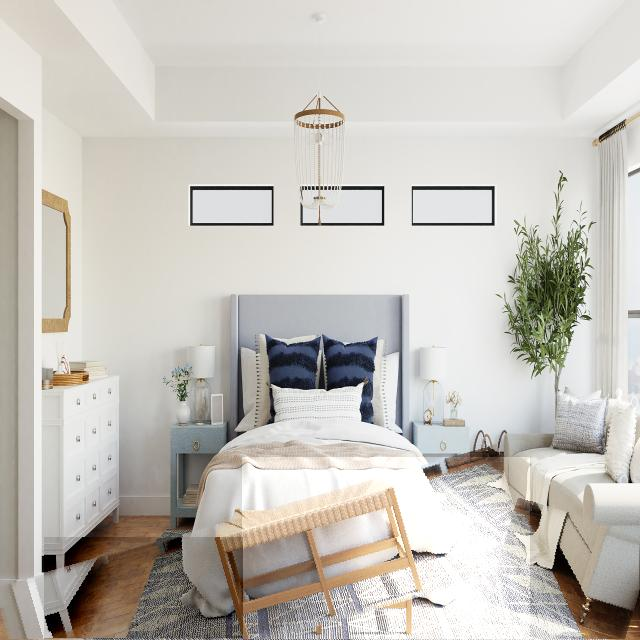floor: (242, 457, 530, 640), (45, 538, 243, 639), (497, 502, 633, 640)
